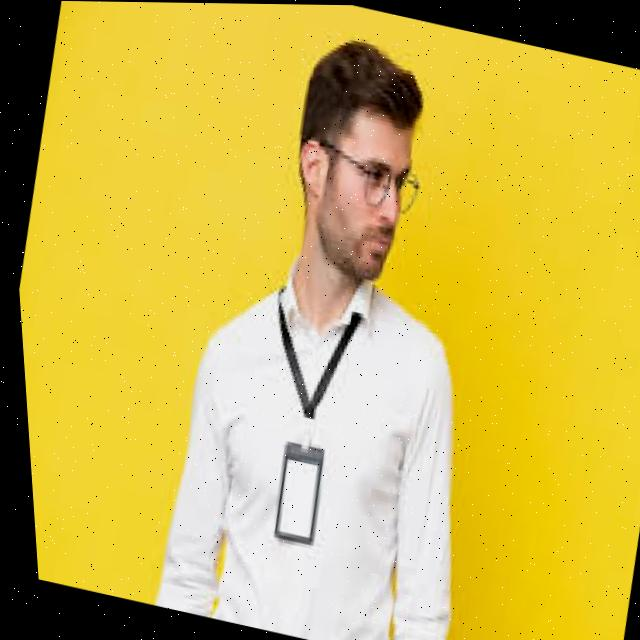id_card: (220, 292, 387, 561)
